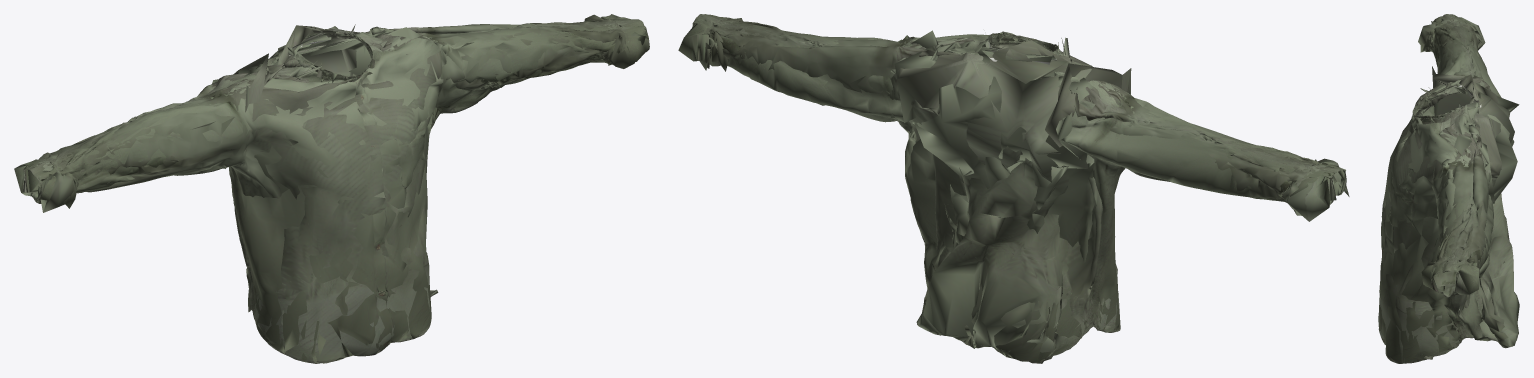
3 views of the same model, side by side, from view 1: azimuth 30°, elevation 25°; view 2: azimuth 150°, elevation 25°; view 3: azimuth 270°, elevation 25° (orthographic). The views are drawn at different scales.
Visible parts, largest first — view 1: Mesh_0.001; view 2: Mesh_0.001; view 3: Mesh_0.001.
Boxes of the visible parts, <box> form: Mesh_0.001: <box>14,14,649,363</box>; Mesh_0.001: <box>678,14,1349,363</box>; Mesh_0.001: <box>1378,14,1519,363</box>.
Bounding box in the file's own units: 1.74 × 0.8037 × 0.4012.
Materials: 1 (1 with a texture image).
